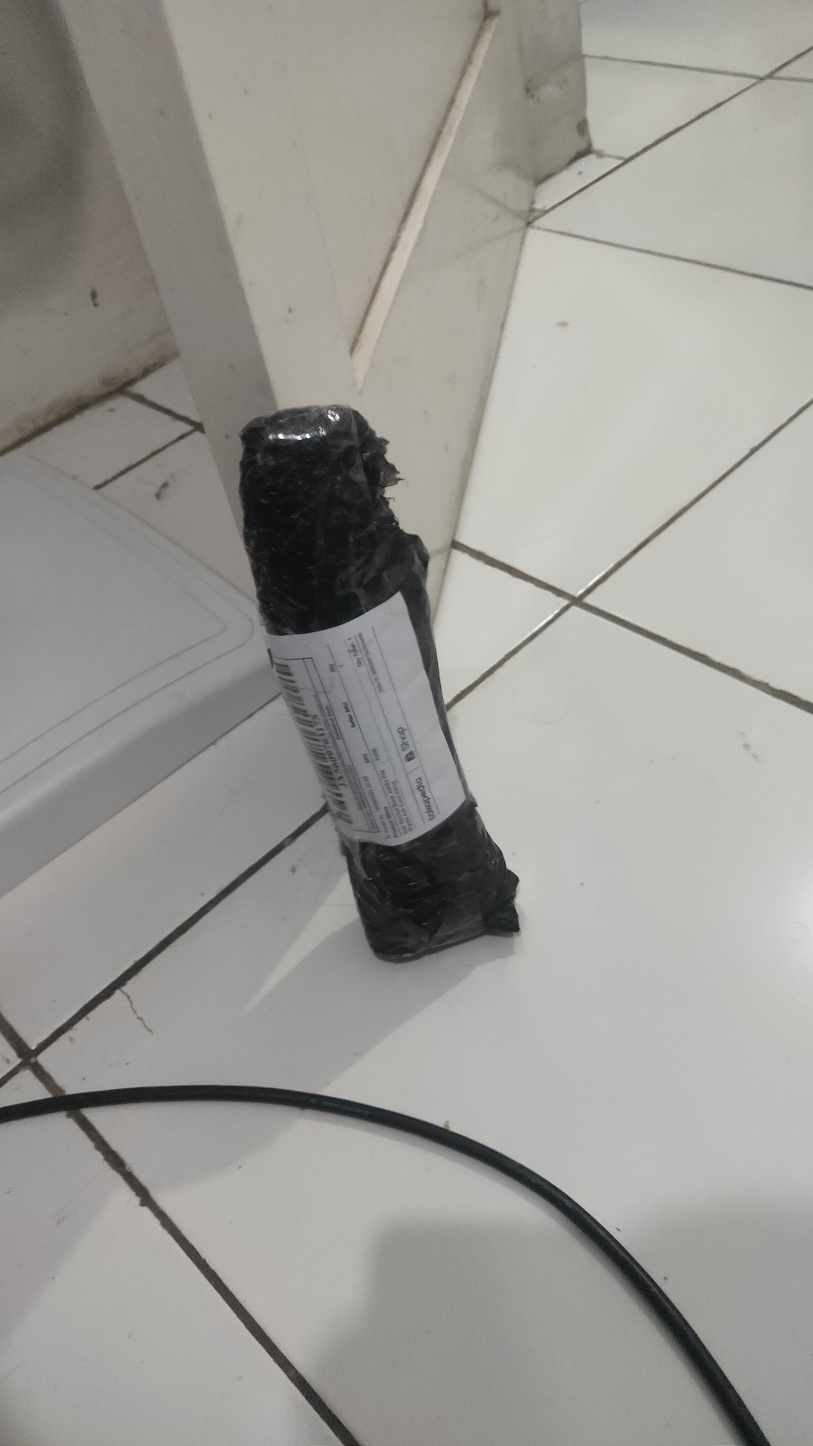damaged package: (358, 839, 444, 938)
undamaged: (237, 404, 519, 970)
